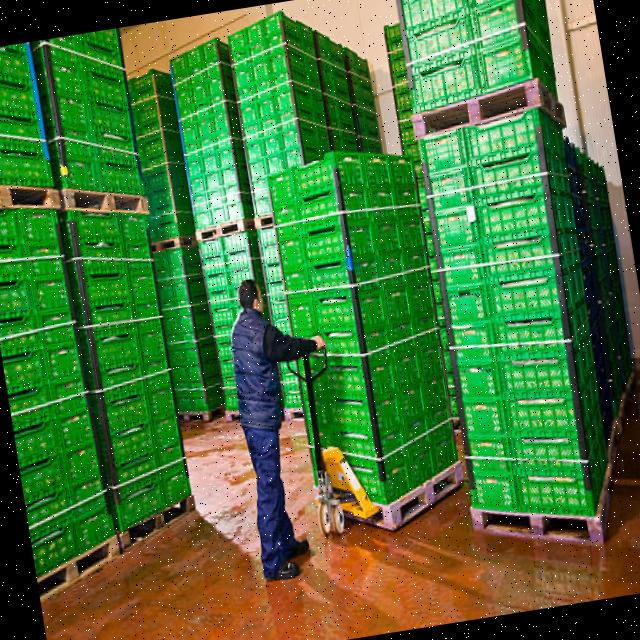Wooden-Pallets: (407, 68, 553, 151), (466, 495, 614, 560), (379, 448, 475, 545), (35, 529, 122, 616), (61, 170, 156, 225), (0, 173, 63, 222)
